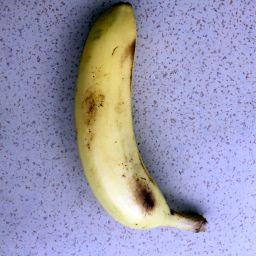Banana Ripe: (67, 0, 210, 243)
